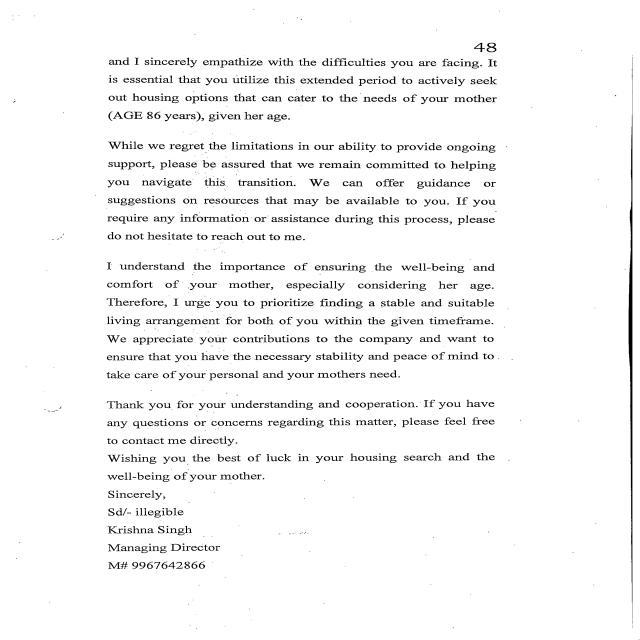page-number: (390, 0, 640, 53)
